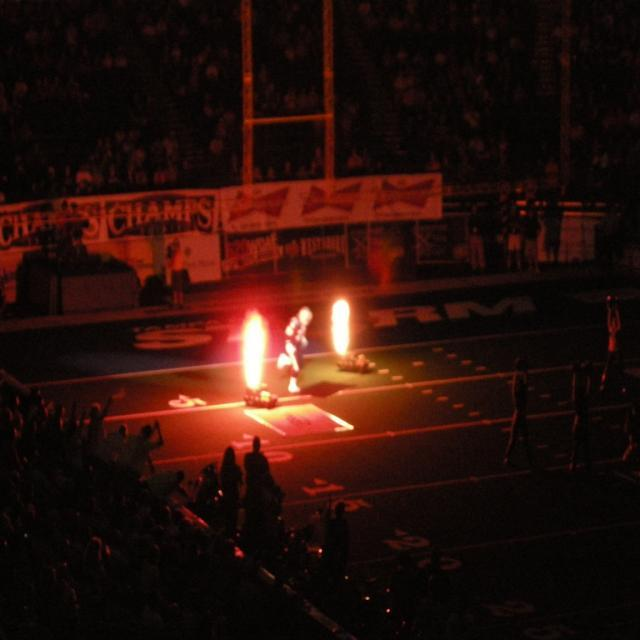Fire: (244, 324, 265, 388), (334, 306, 352, 354)
